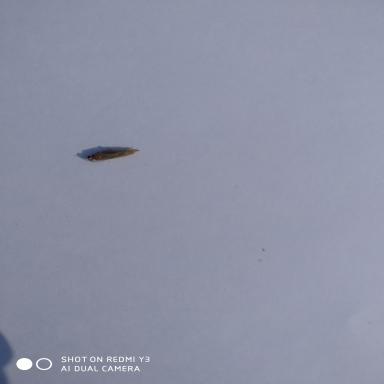pbw: (85, 146, 141, 164)
